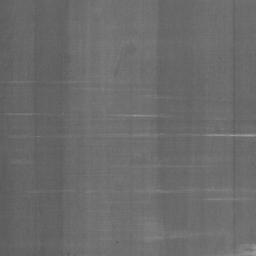Waist folding: (0, 94, 256, 141), (113, 163, 256, 203), (116, 235, 188, 245), (215, 242, 256, 256), (0, 79, 87, 85), (29, 189, 94, 194), (0, 158, 29, 165)
